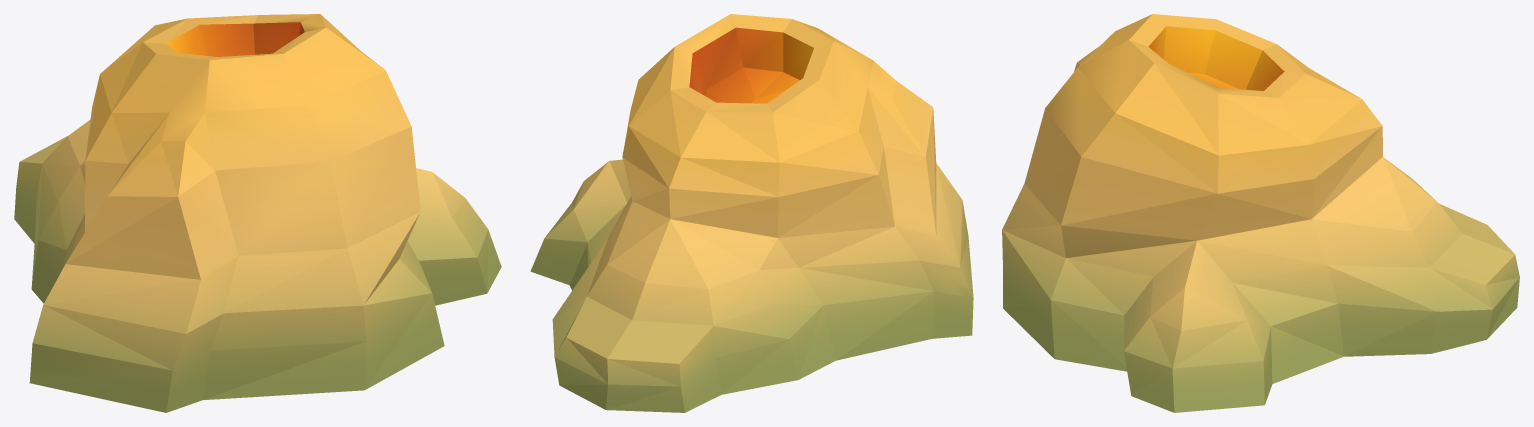
File: SM_APP_Gas_Rock_medium_A.glb
3 views of the same model, side by side, from view 1: azimuth 30°, elevation 25°; view 2: azimuth 150°, elevation 25°; view 3: azimuth 270°, elevation 25° (orthographic). The views are drawn at different scales.
Parts seen in each view (by area): view 1: SM_APP_Gas_Rock_medium_A; view 2: SM_APP_Gas_Rock_medium_A; view 3: SM_APP_Gas_Rock_medium_A.
Boxes of the visible parts, left/top/right/bottom form: SM_APP_Gas_Rock_medium_A: left=14, top=14, right=501, bottom=412; SM_APP_Gas_Rock_medium_A: left=530, top=14, right=973, bottom=412; SM_APP_Gas_Rock_medium_A: left=1002, top=14, right=1519, bottom=412.
Bounding box in the file's own units: 18.74 × 11.22 × 19.5.
1 material, 1 textured.
